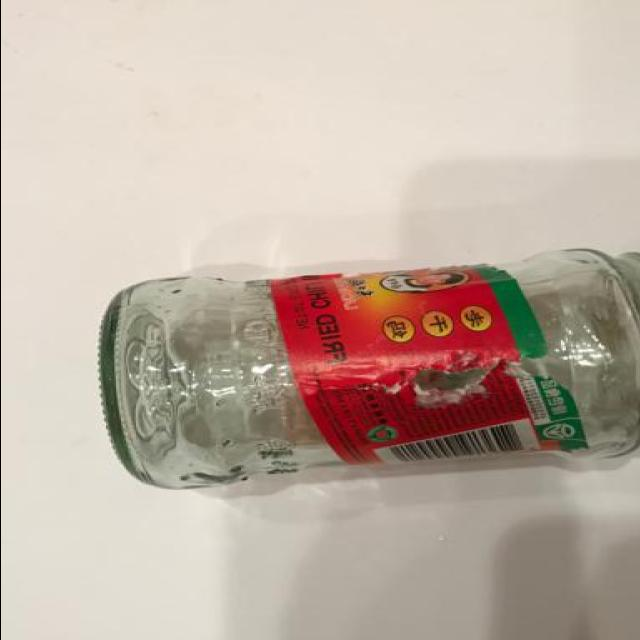glass: (98, 248, 640, 490)
